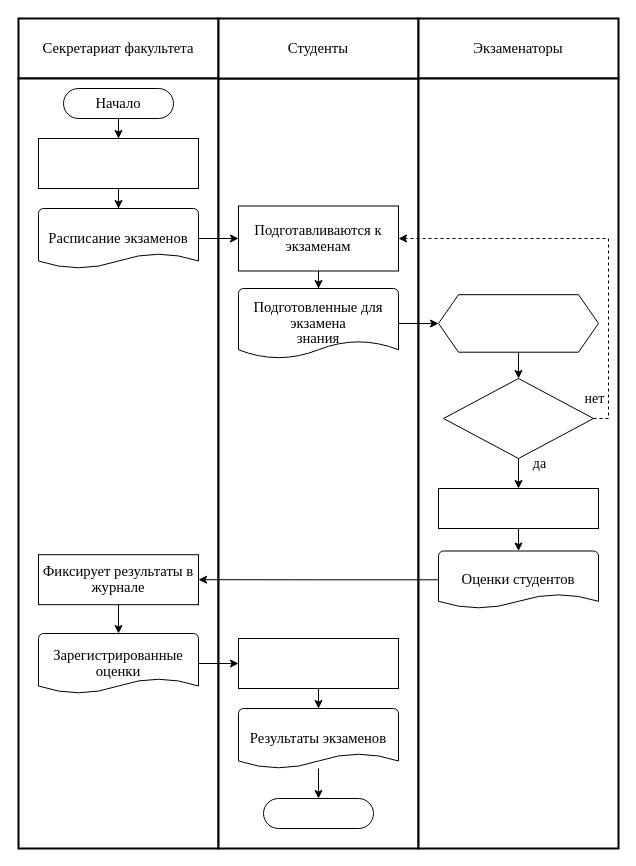
Image size: 636x866. Some labels were removed from this diagram. The box of each missing label's shape, as (x1, y1, x2, y2) in pixels:
Выставляют оценки: (438, 488, 598, 528)
Организует расписание экзаменов, назначает экзаменаторов: (38, 138, 198, 188)
Оценивают работы студентов: (438, 294, 598, 352)
Получают свои результаты: (238, 638, 398, 688)
Финиш: (262, 798, 374, 828)
Экзамен сдан?: (442, 378, 594, 458)
